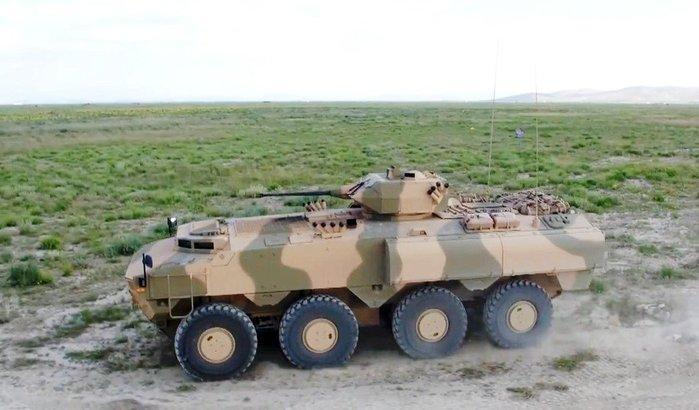MIL_IFV: (124, 159, 610, 382)
